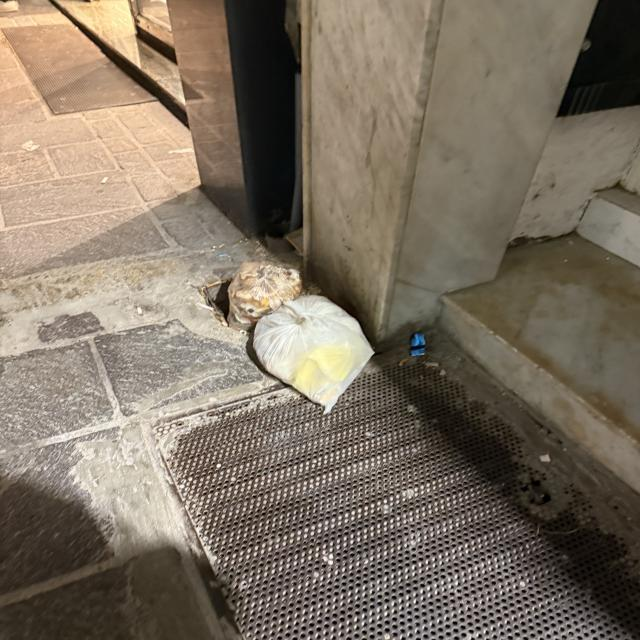Organic Waste -White Bags-: (227, 260, 374, 413)
